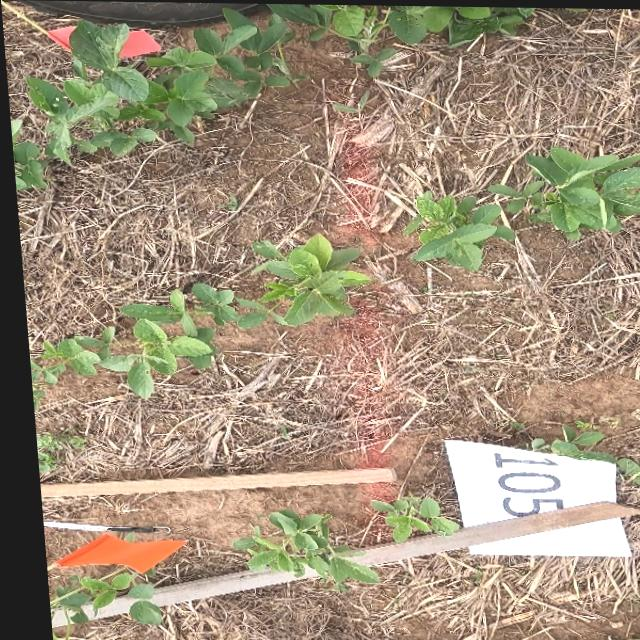caruru_weed: (28, 430, 77, 473)
grassy_weed: (626, 601, 640, 611)
soy_plant: (26, 3, 533, 162), (23, 233, 363, 409), (487, 146, 640, 238), (224, 508, 368, 583), (401, 191, 510, 269), (518, 419, 640, 482), (39, 571, 151, 625), (361, 496, 450, 542), (8, 120, 43, 190)
